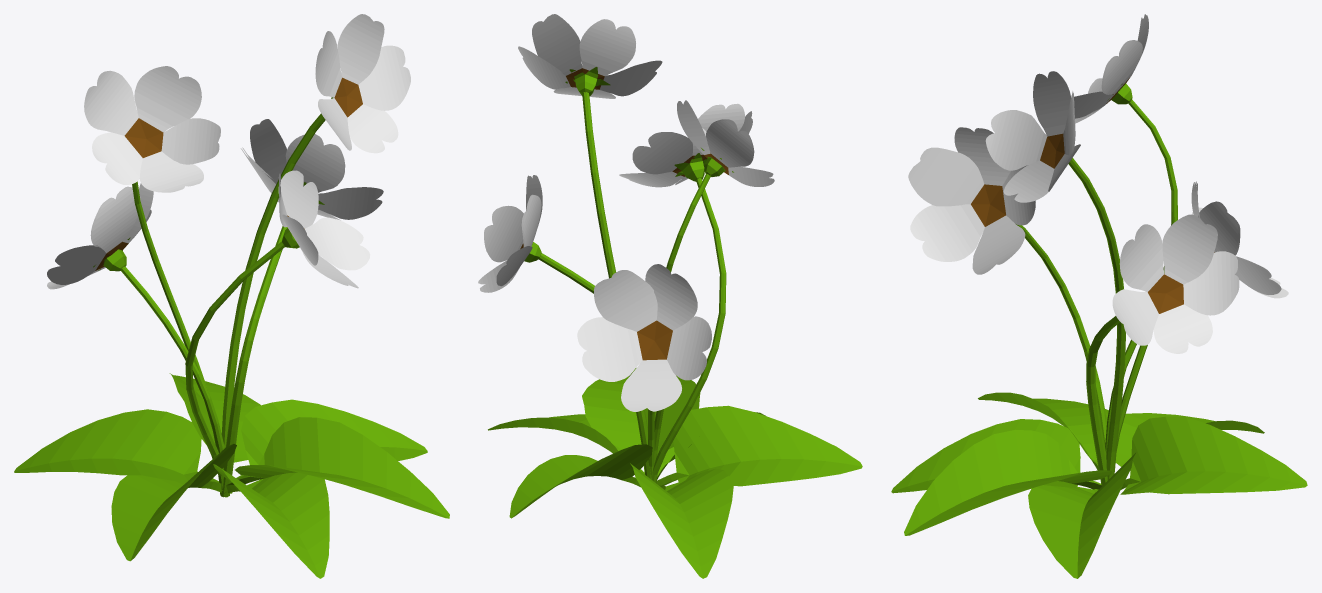
The model's file is WitteBloem_03.fbx.
3 views of the same model, side by side, from view 1: azimuth 30°, elevation 25°; view 2: azimuth 150°, elevation 25°; view 3: azimuth 270°, elevation 25° (orthographic). The views are drawn at different scales.
Parts seen in each view (by area): view 1: Mesh8; view 2: Mesh8; view 3: Mesh8.
Boxes of the visible parts, x1=… form: Mesh8: x1=14, y1=14, x2=449, y2=578; Mesh8: x1=478, y1=14, x2=862, y2=578; Mesh8: x1=891, y1=14, x2=1307, y2=578.
Bounding box in the file's own units: 0.0056 × 0.00717 × 0.00582.
